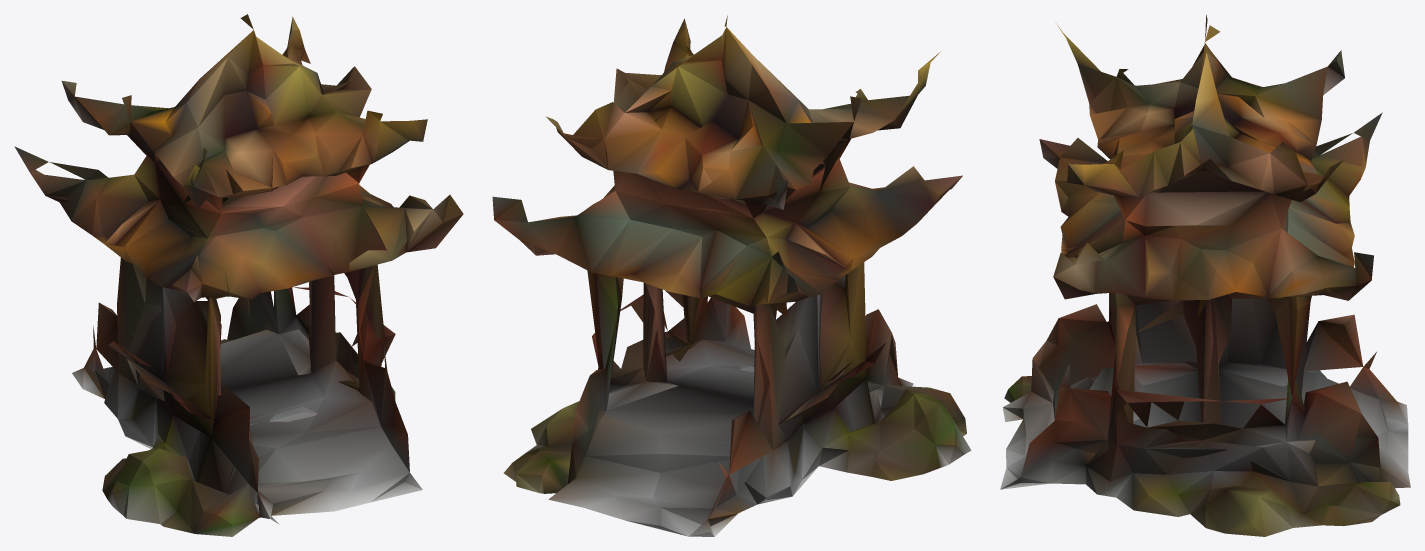
Rendered from bq_stage.vc2.glb.
3 views of the same model, side by side, from view 1: azimuth 30°, elevation 25°; view 2: azimuth 150°, elevation 25°; view 3: azimuth 270°, elevation 25° (orthographic). The views are drawn at different scales.
Visible parts, largest first — view 1: bq_stage; view 2: bq_stage; view 3: bq_stage.
Boxes of the visible parts, box(x1,y1,x2,y2) form: bq_stage: box(14, 14, 463, 536); bq_stage: box(492, 15, 971, 536); bq_stage: box(1000, 14, 1410, 536).
Size of the model in its own units: 1.51 by 1.78 by 1.53.
